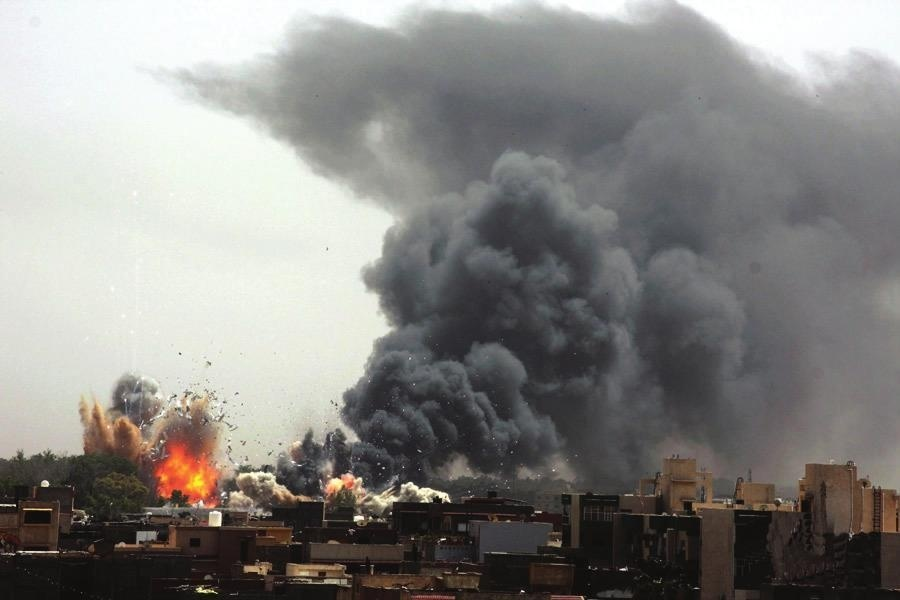fire: (156, 444, 218, 500)
